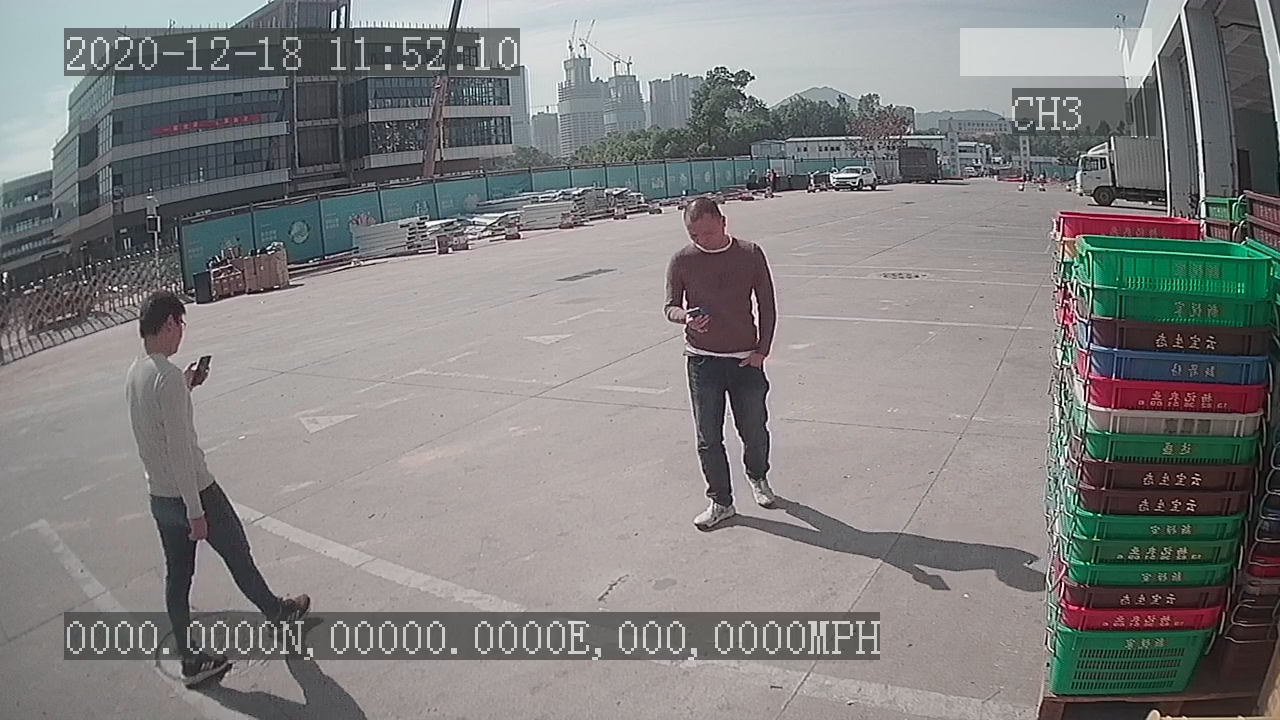person: (654, 188, 783, 536)
